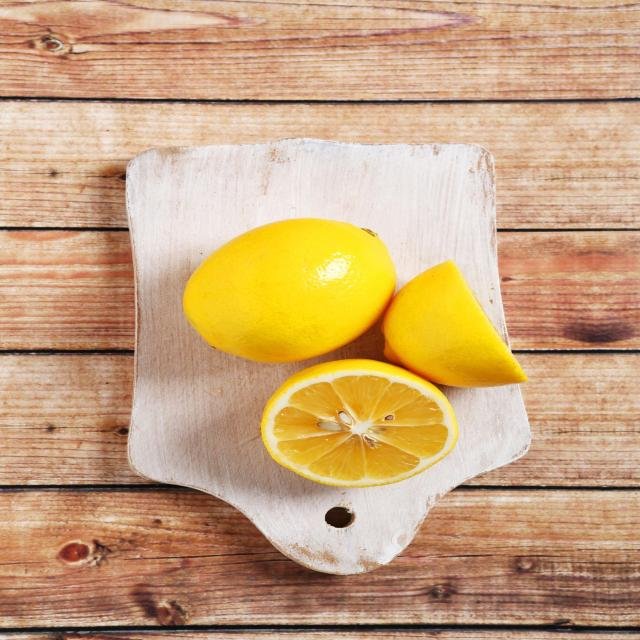lemon: (255, 357, 464, 491)
